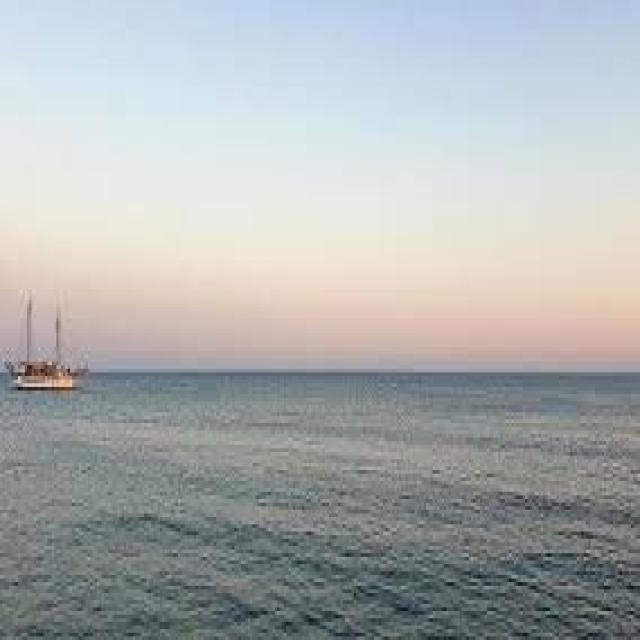fishing boat: (6, 298, 92, 397)
